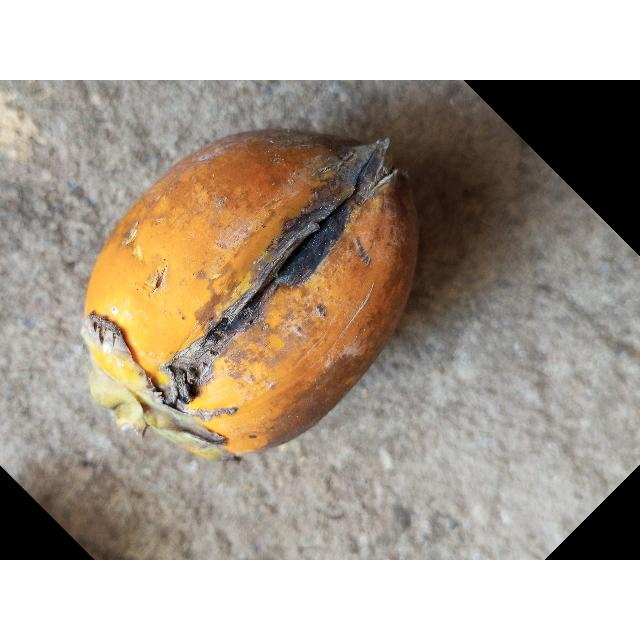damaged: (79, 129, 420, 465)
